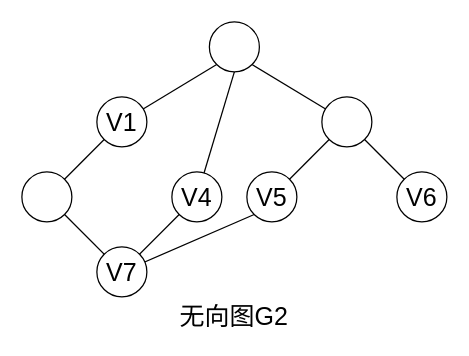
Some shapes in this 469 by 356 pixel diagram are drawn without their labels. The shapes that lost their labels are listed below. From the top down, each one's centre as x and y in pixels, then its label:
point 233,46: V0
point 346,121: V2
point 46,196: V3
